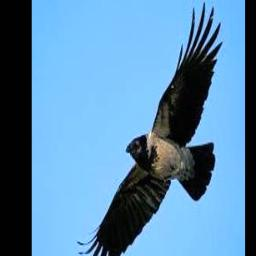Crow: (78, 1, 223, 256)
